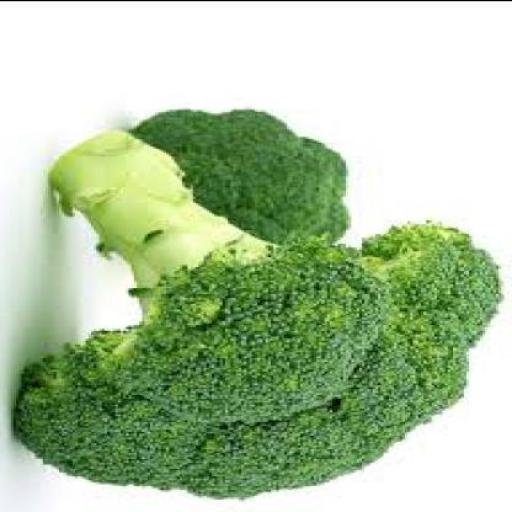biodegradable: (14, 132, 507, 502), (128, 108, 352, 249)
